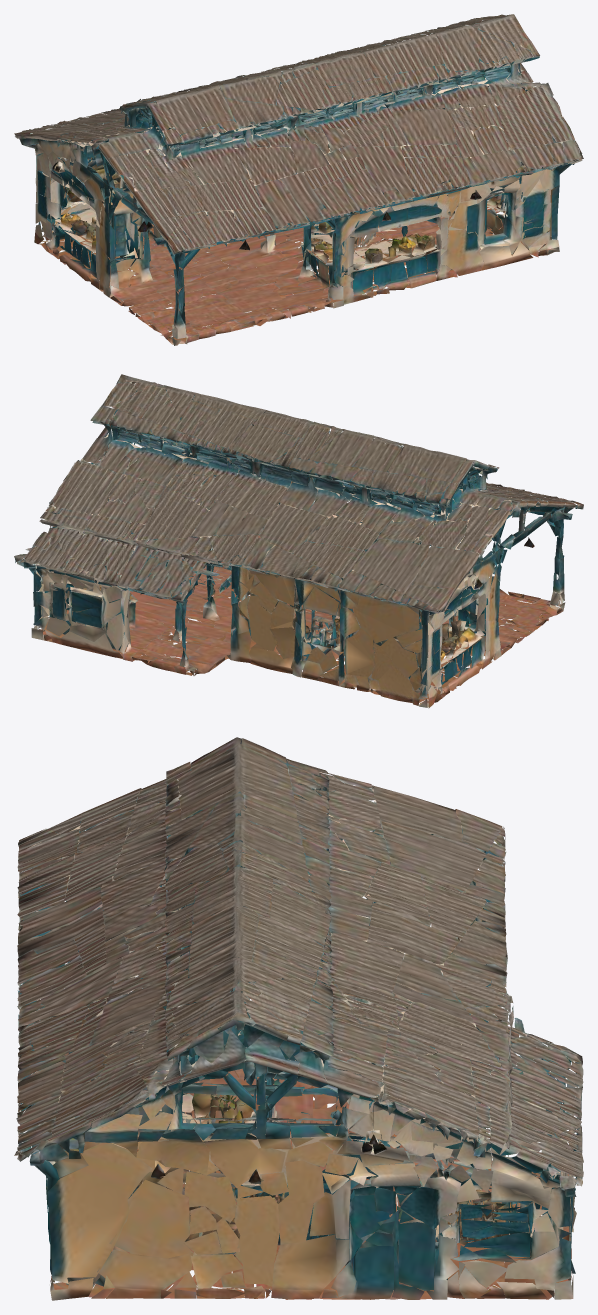
The model's file is market.glb.
3 renders of one model, top to bottom at view 1: azimuth 30°, elevation 25°; view 2: azimuth 150°, elevation 25°; view 3: azimuth 270°, elevation 25°, orthographic. The views are drawn at different scales.
Visible parts, largest first — view 1: Mesh_0; view 2: Mesh_0; view 3: Mesh_0.
Part boxes in pixels (box(x1,y1,x2,y2)): Mesh_0: box(14, 14, 583, 345); Mesh_0: box(14, 374, 583, 708); Mesh_0: box(14, 737, 583, 1300).
Size of the model in its own units: 1.9 by 0.8417 by 1.43.
1 material, 1 textured.
